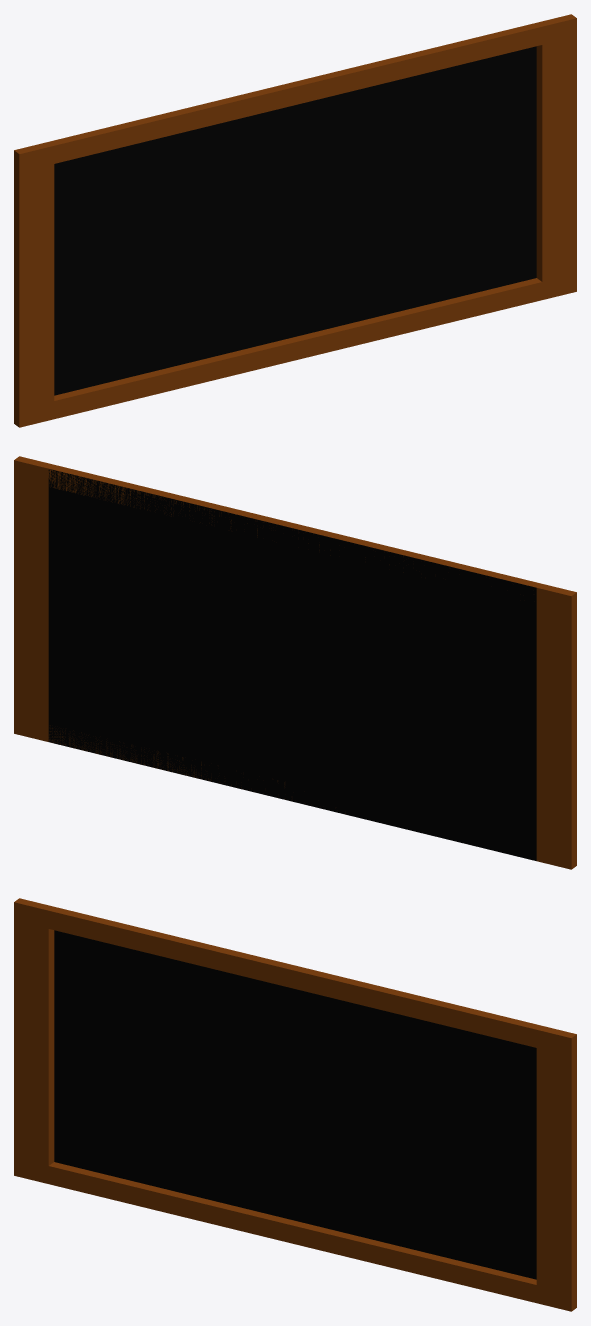
File: Roman_Chalkboard_rectangle.fbx
The picture shows the model from 3 angles, top to bottom: view 1: azimuth 30°, elevation 25°; view 2: azimuth 150°, elevation 25°; view 3: azimuth 330°, elevation 25°; orthographic projection.
Parts seen in each view (by area): view 1: Roman Chalkboard rectangle; view 2: Roman Chalkboard rectangle; view 3: Roman Chalkboard rectangle.
Boxes of the visible parts, left/top/right/bottom form: Roman Chalkboard rectangle: left=14, top=14, right=576, bottom=427; Roman Chalkboard rectangle: left=14, top=456, right=576, bottom=869; Roman Chalkboard rectangle: left=14, top=898, right=576, bottom=1311.
Bounding box in the file's own units: 427 × 200 × 7.23.
